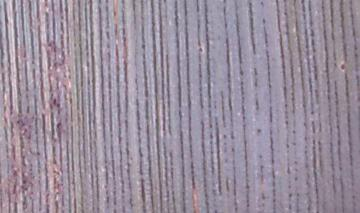tarspot: (55, 121, 62, 130), (339, 62, 345, 72), (197, 46, 204, 54), (255, 127, 262, 135), (112, 8, 117, 18), (257, 153, 264, 160), (261, 17, 267, 25), (52, 96, 57, 105), (55, 102, 61, 109)
